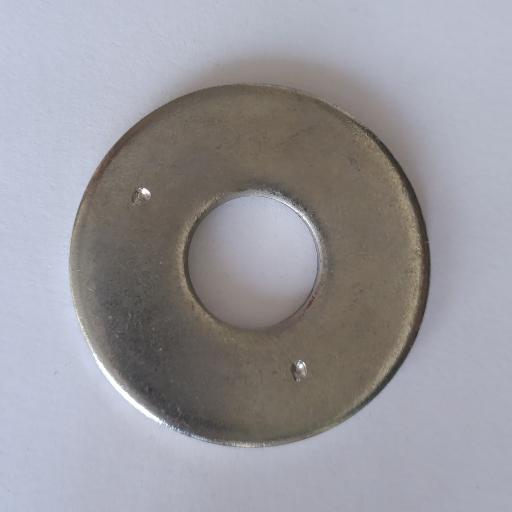circular_cavity: (290, 359, 307, 383), (132, 188, 151, 206)
